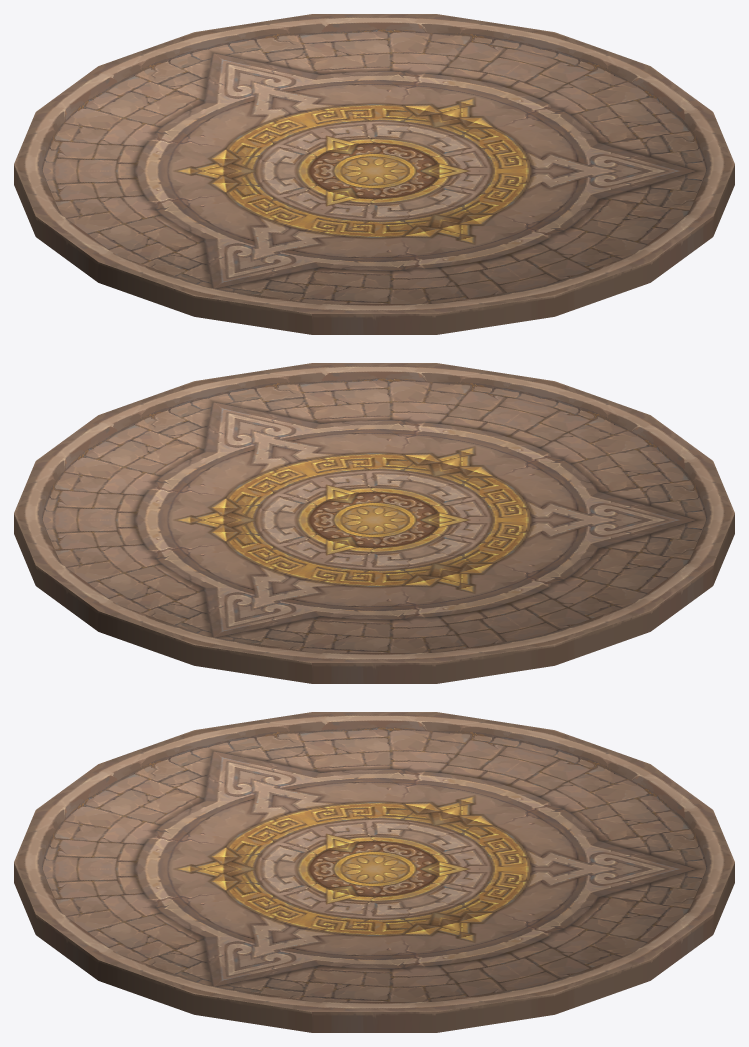
The model's file is fb_jjc_zj_03.FBX.
The picture shows the model from 3 angles, top to bottom: view 1: azimuth 30°, elevation 25°; view 2: azimuth 150°, elevation 25°; view 3: azimuth 270°, elevation 25°; orthographic projection.
Visible parts, largest first — view 1: fb_jjc_zj_03; view 2: fb_jjc_zj_03; view 3: fb_jjc_zj_03.
Boxes of the visible parts, bbox=[...] form: fb_jjc_zj_03: bbox=[14, 14, 734, 334]; fb_jjc_zj_03: bbox=[14, 363, 734, 683]; fb_jjc_zj_03: bbox=[14, 712, 734, 1032].
Bounding box in the file's own units: 2666 × 86.32 × 2708.
Materials: 1 (1 with a texture image).
